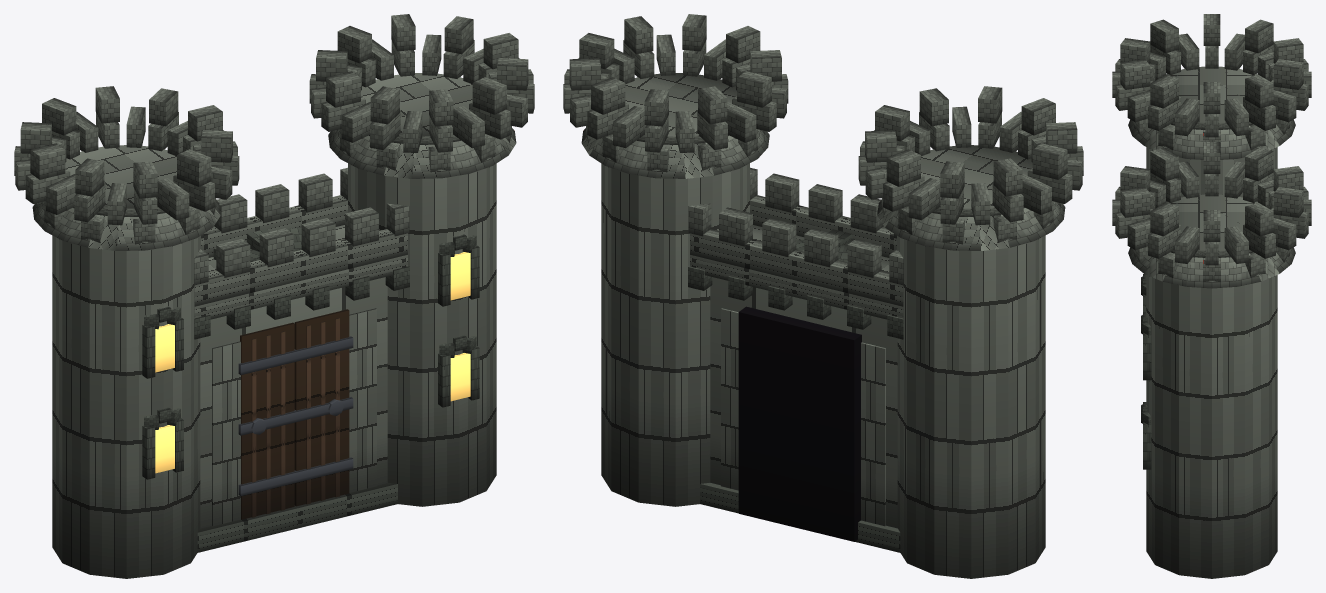
The model's file is gatehouse.gltf.
The picture shows the model from 3 angles, left to right: view 1: azimuth 30°, elevation 25°; view 2: azimuth 150°, elevation 25°; view 3: azimuth 270°, elevation 25°; orthographic projection. The views are drawn at different scales.
Parts seen in each view (by area): view 1: gatehouse; view 2: gatehouse; view 3: gatehouse.
Part boxes in pixels (left/top/right/bottom): gatehouse: left=14, top=14, right=534, bottom=578; gatehouse: left=563, top=14, right=1083, bottom=578; gatehouse: left=1112, top=14, right=1311, bottom=578.
Bounding box in the file's own units: 3.05 × 2.48 × 1.21.
Materials: 1 (1 with a texture image).
